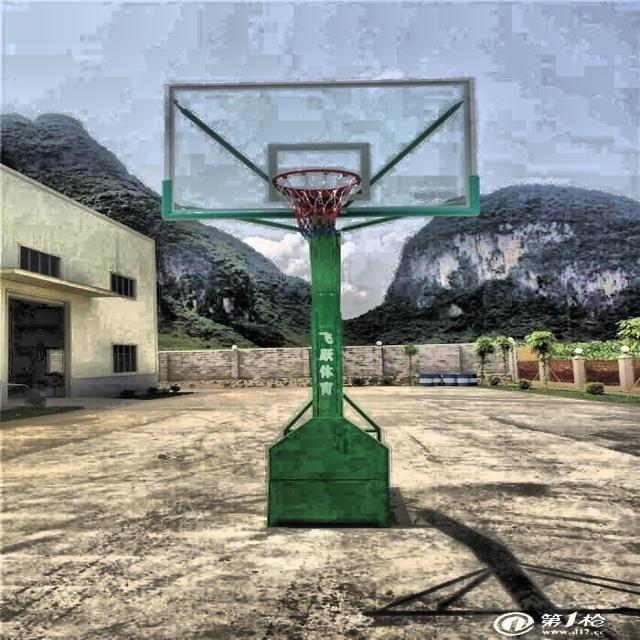rim: (276, 168, 360, 237)
